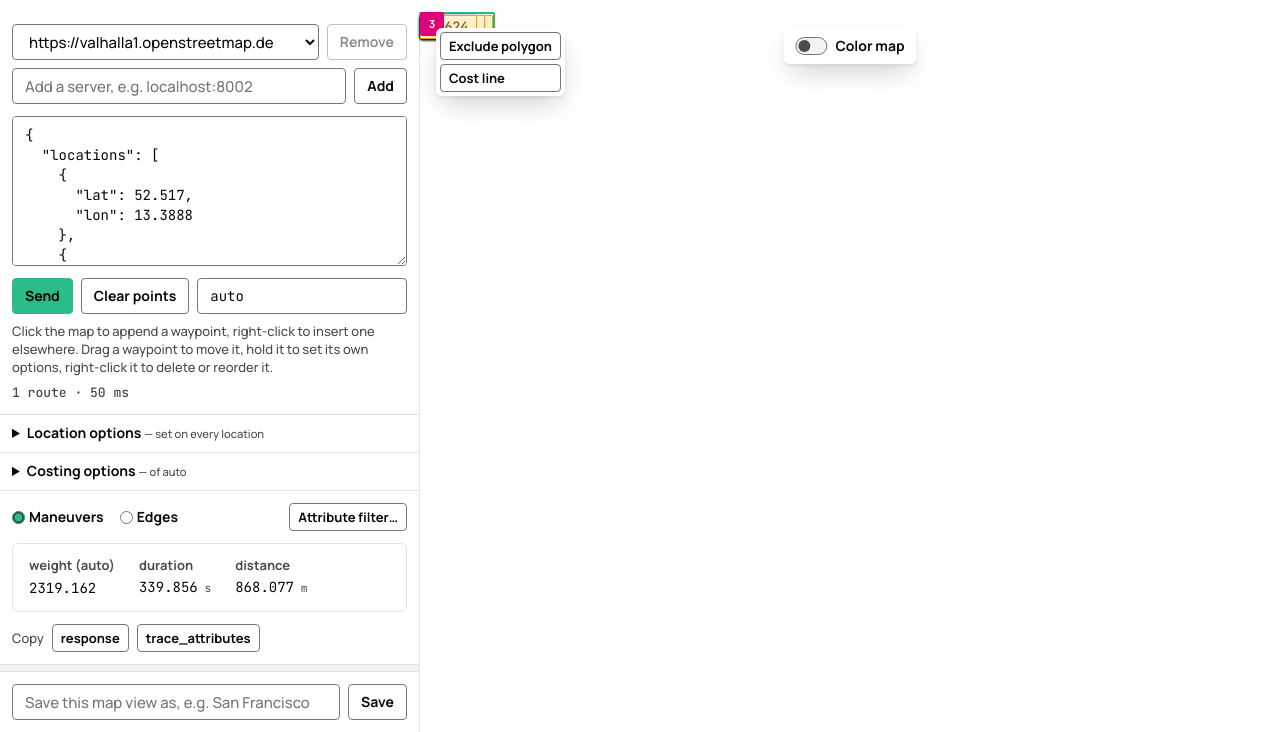
Test case: route playground › clears the route when fewer than two waypoints are left
Click the button "Clear points": (135, 296) [81, 278, 189, 314]
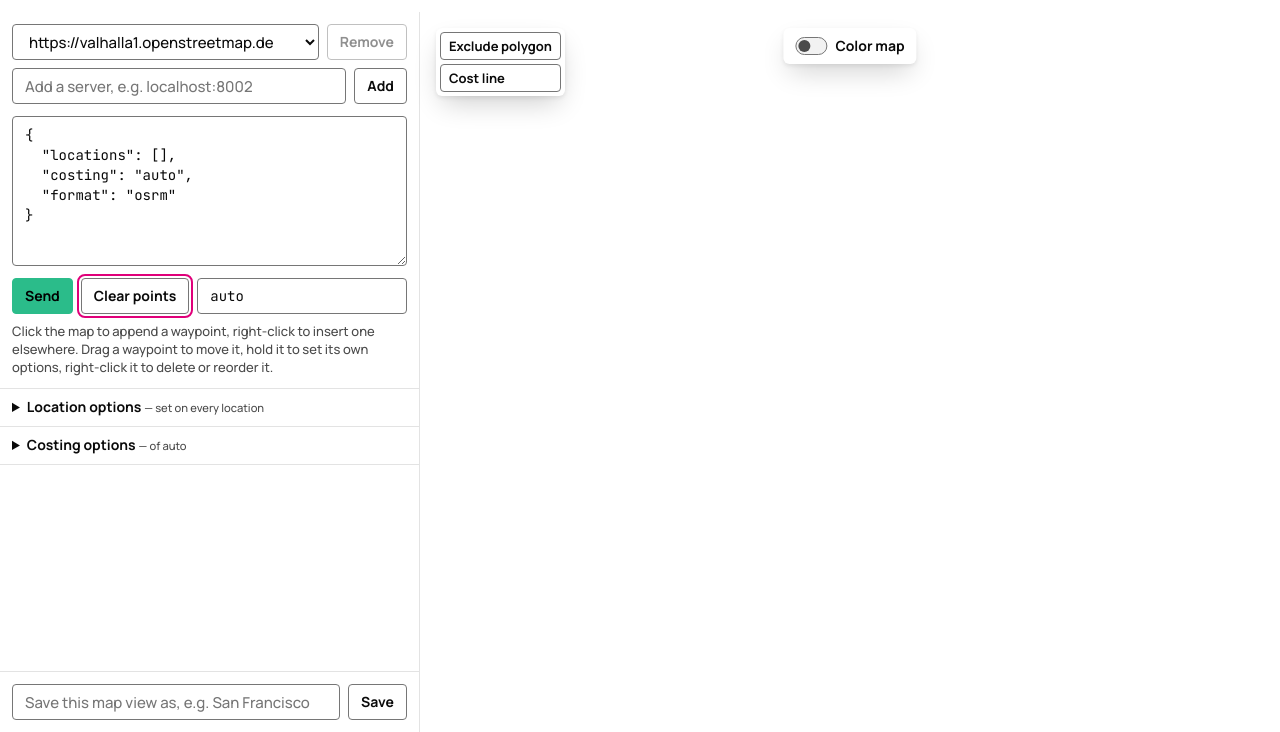
expect the label "Steps" is gone: met
